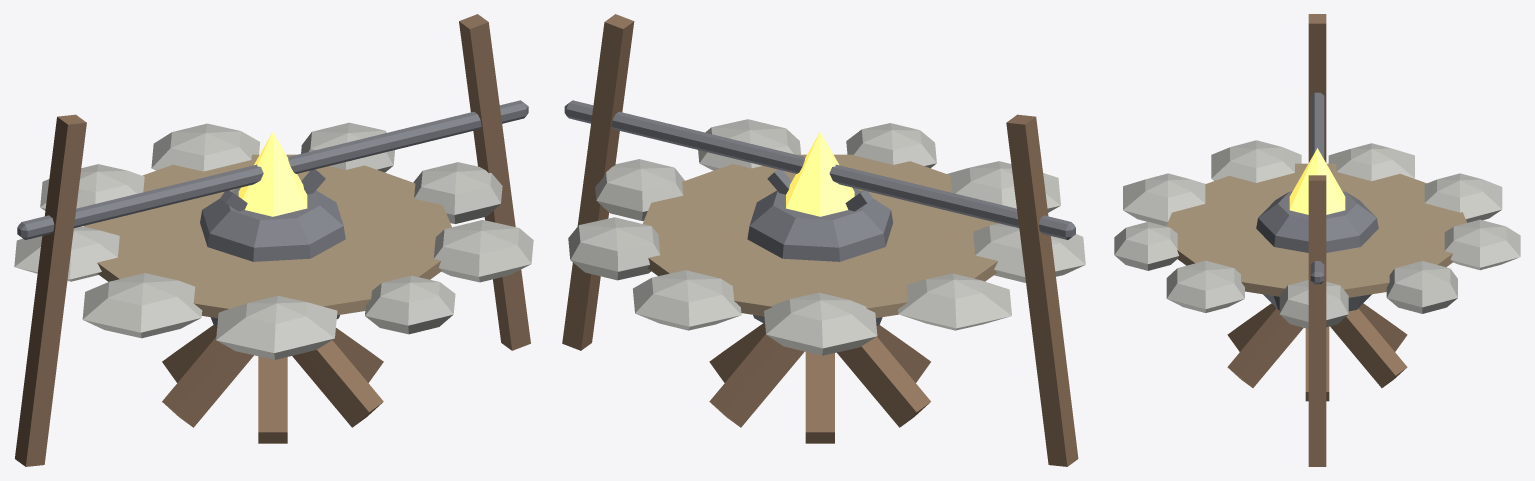
File: town_campfire_with_spit.glb
3 renders of one model, left to right at view 1: azimuth 30°, elevation 25°; view 2: azimuth 150°, elevation 25°; view 3: azimuth 270°, elevation 25°, orthographic. The views are drawn at different scales.
Parts seen in each view (by area): view 1: world; view 2: world; view 3: world.
Part boxes in pixels (x1,y1,x2,y2): world: [14, 14, 533, 466]; world: [562, 14, 1085, 466]; world: [1114, 14, 1520, 466].
Size of the model in its own units: 2 by 1.26 by 1.71.
